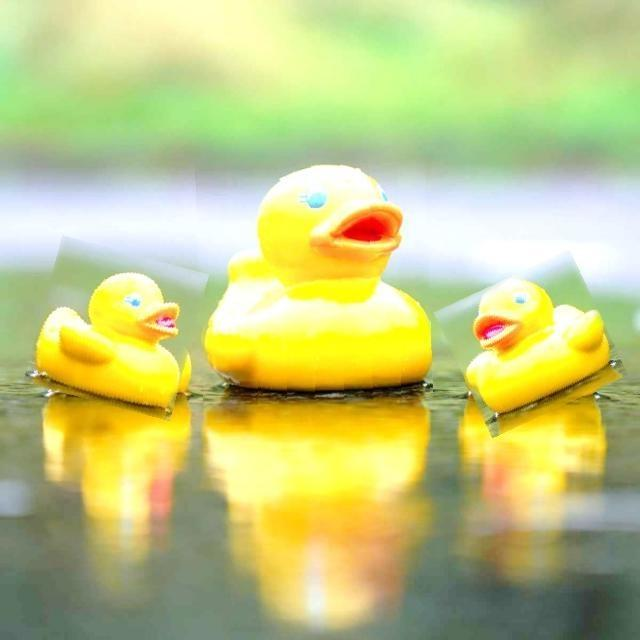rubber-duck: (203, 164, 430, 389), (35, 271, 189, 406), (464, 277, 608, 411)
